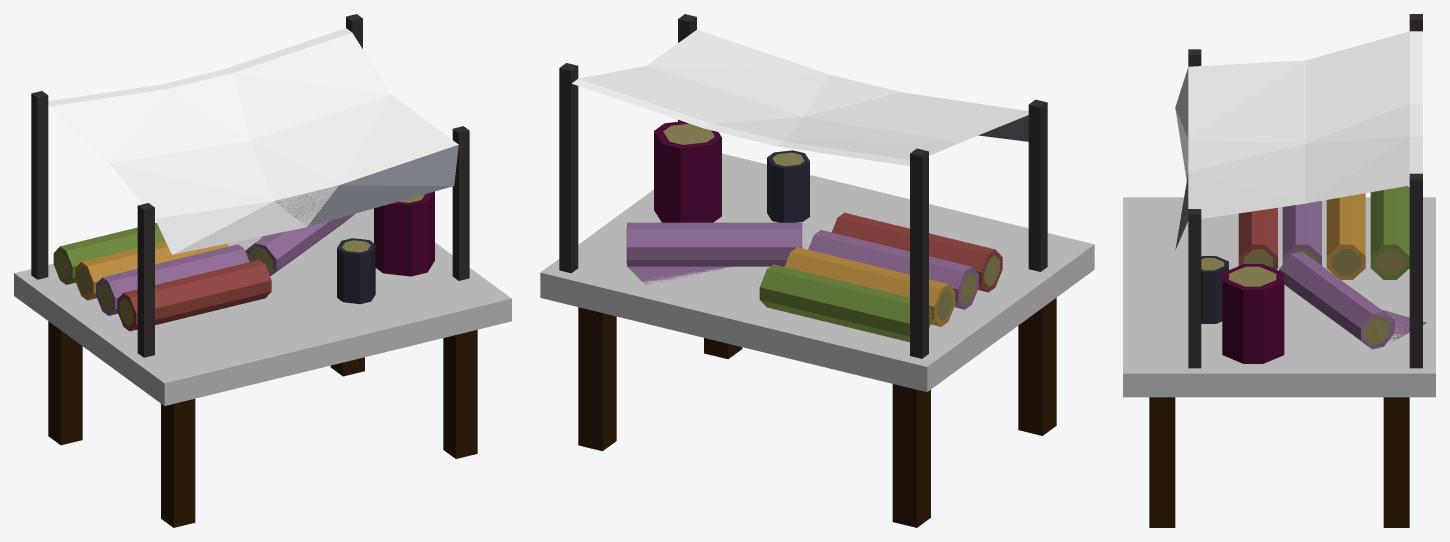
Rendered from silk_stall_8.obj.
3 views of the same model, side by side, from view 1: azimuth 30°, elevation 25°; view 2: azimuth 150°, elevation 25°; view 3: azimuth 270°, elevation 25° (orthographic). The views are drawn at different scales.
Parts seen in each view (by area): view 1: 1485; view 2: 1485; view 3: 1485.
Part boxes in pixels (x1,y1,x2,y2): 1485: (14, 14, 511, 527); 1485: (540, 14, 1094, 527); 1485: (1123, 14, 1435, 527).
Bounding box in the file's own units: 256 × 240 × 192.
